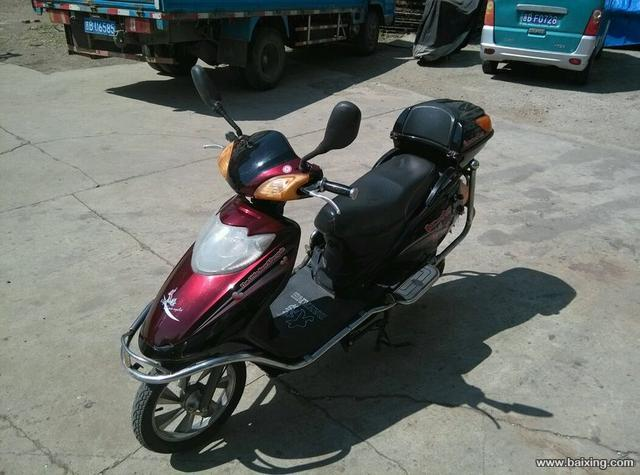电动车: (115, 59, 509, 461)
